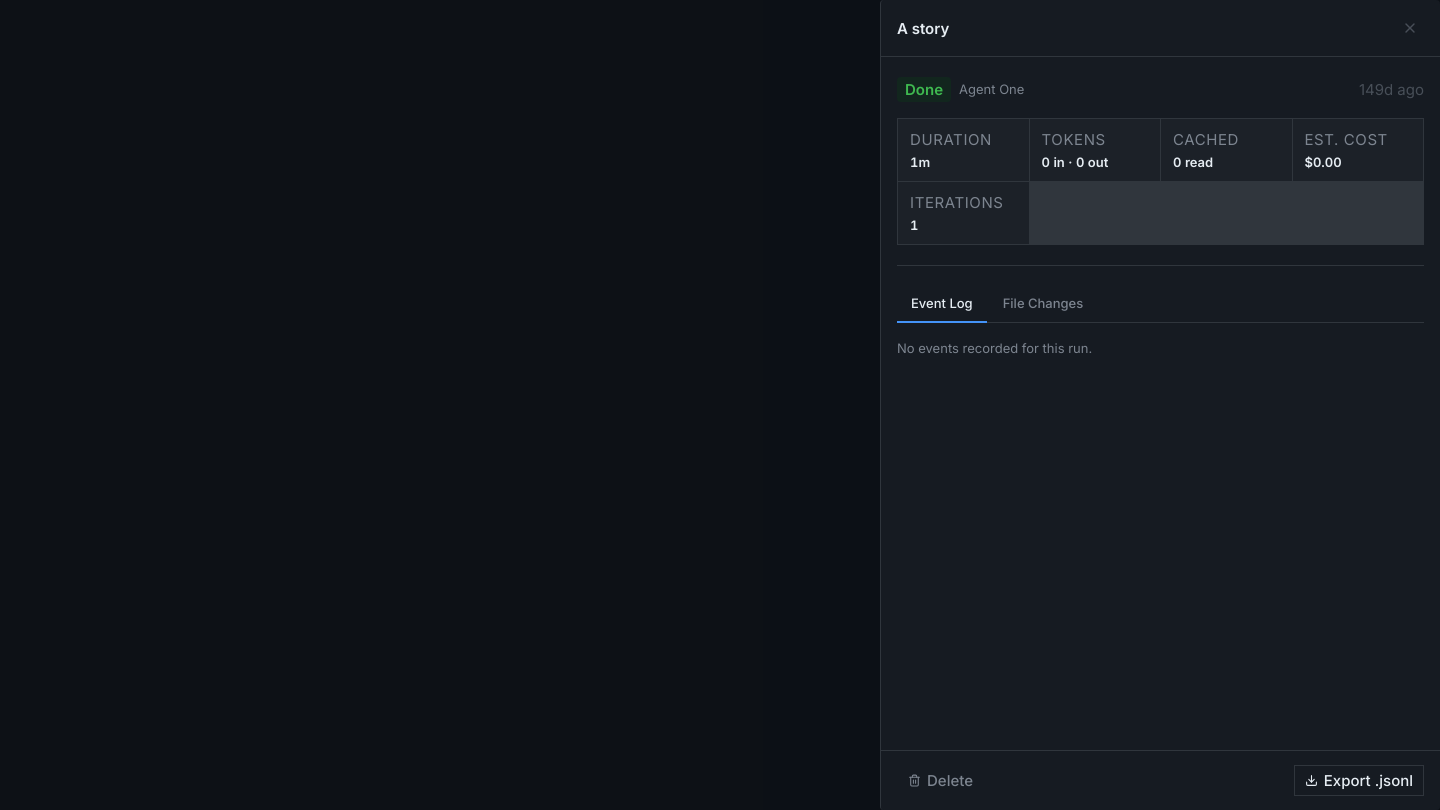
it: RunDetailPanel run isolation › says so plainly once a run has been accepted or reverted
Click the tab "File Changes": {"x": 1043, "y": 304} [989, 286, 1097, 323]
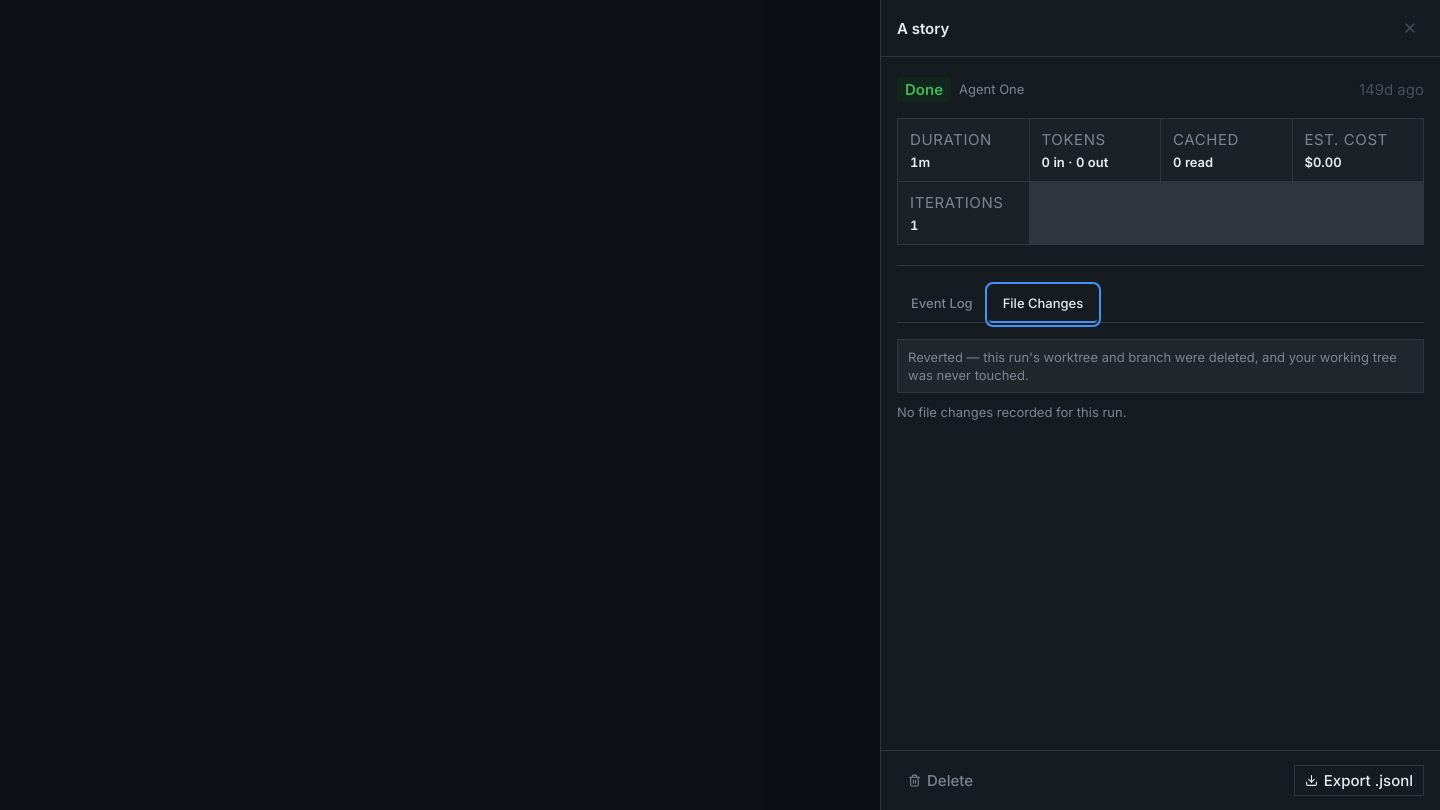
Expected: the text "worktree and branch were deleted" is shown, [908, 349, 1397, 383]
